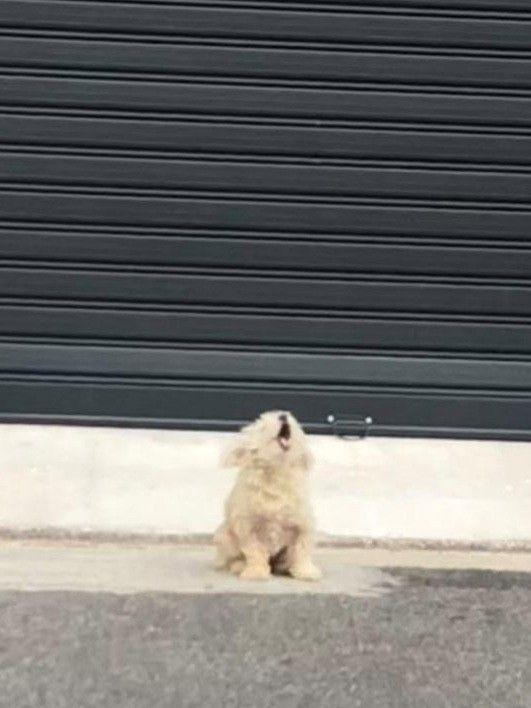adult_dog: (209, 409, 323, 583)
